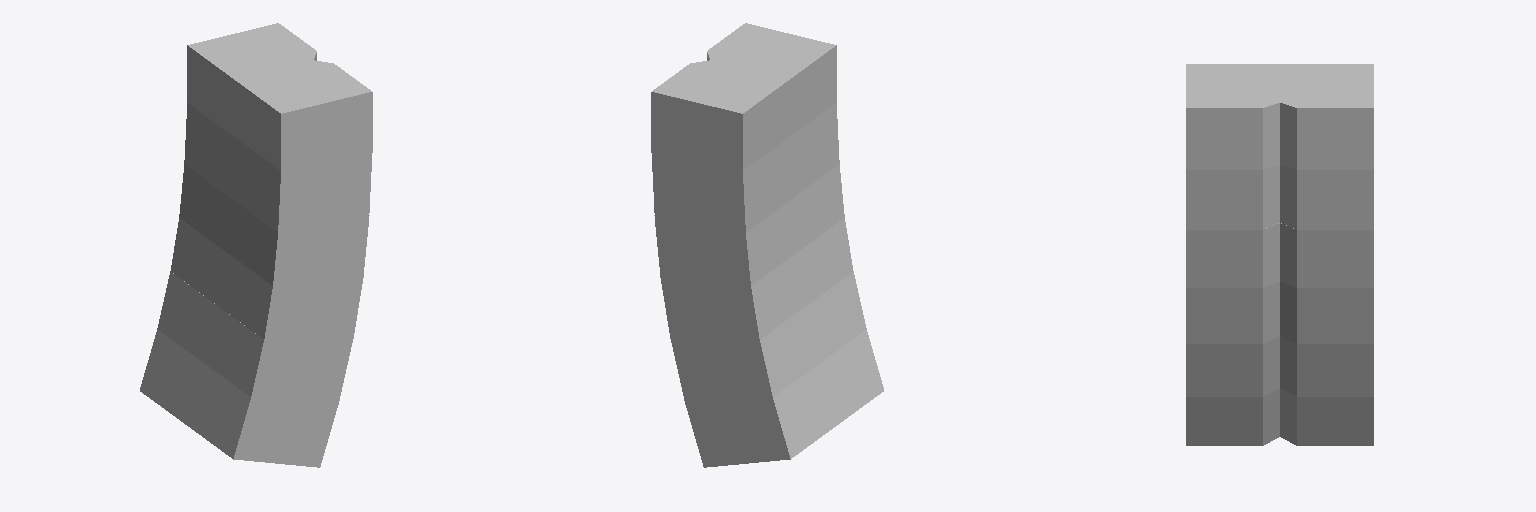
File: TrinitySpeaker.obj
3 renders of one model, left to right at view 1: azimuth 30°, elevation 25°; view 2: azimuth 150°, elevation 25°; view 3: azimuth 270°, elevation 25°, orthographic.
Visible parts, largest first — view 1: pCube17, pCube12, pCube16, pCube13, pCube15, pCube14, pCube1, pCube11, pCube9, pCube4, pCube7, pCube6; view 2: pCube1, pCube11, pCube4, pCube9, pCube7, pCube6, pCube17, pCube12, pCube13, pCube16, pCube14, pCube15; view 3: pCube1, pCube17, pCube4, pCube16, pCube6, pCube15, pCube7, pCube14, pCube9, pCube13, pCube12, pCube11.
Boxes of the visible parts, x1=… form: pCube17: x1=235, y1=60, x2=372, y2=175; pCube12: x1=187, y1=364, x2=337, y2=467; pCube16: x1=232, y1=138, x2=371, y2=232; pCube13: x1=205, y1=306, x2=352, y2=404; pCube15: x1=226, y1=199, x2=369, y2=290; pCube14: x1=218, y1=252, x2=362, y2=346; pCube1: x1=187, y1=23, x2=316, y2=136; pCube11: x1=140, y1=329, x2=203, y2=424; pCube9: x1=157, y1=271, x2=216, y2=363; pCube4: x1=184, y1=103, x2=234, y2=198; pCube7: x1=171, y1=218, x2=225, y2=305; pCube6: x1=179, y1=164, x2=231, y2=251; pCube1: x1=651, y1=60, x2=789, y2=175; pCube11: x1=686, y1=364, x2=836, y2=467; pCube4: x1=652, y1=138, x2=792, y2=232; pCube9: x1=671, y1=306, x2=818, y2=404; pCube7: x1=661, y1=252, x2=805, y2=346; pCube6: x1=654, y1=199, x2=796, y2=289; pCube17: x1=707, y1=23, x2=836, y2=136; pCube12: x1=820, y1=329, x2=883, y2=424; pCube13: x1=806, y1=271, x2=866, y2=363; pCube16: x1=789, y1=103, x2=839, y2=198; pCube14: x1=798, y1=218, x2=852, y2=305; pCube15: x1=792, y1=164, x2=844, y2=251; pCube1: x1=1279, y1=64, x2=1373, y2=169; pCube17: x1=1186, y1=64, x2=1280, y2=169; pCube4: x1=1280, y1=164, x2=1373, y2=229; pCube16: x1=1186, y1=164, x2=1279, y2=229; pCube6: x1=1280, y1=223, x2=1373, y2=287; pCube15: x1=1186, y1=223, x2=1279, y2=287; pCube7: x1=1280, y1=282, x2=1373, y2=343; pCube14: x1=1186, y1=282, x2=1279, y2=343; pCube9: x1=1280, y1=336, x2=1373, y2=396; pCube13: x1=1186, y1=336, x2=1279, y2=396; pCube12: x1=1186, y1=388, x2=1279, y2=445; pCube11: x1=1280, y1=388, x2=1373, y2=445.
Size of the model in its own units: 4.09 by 10.19 by 4.77.